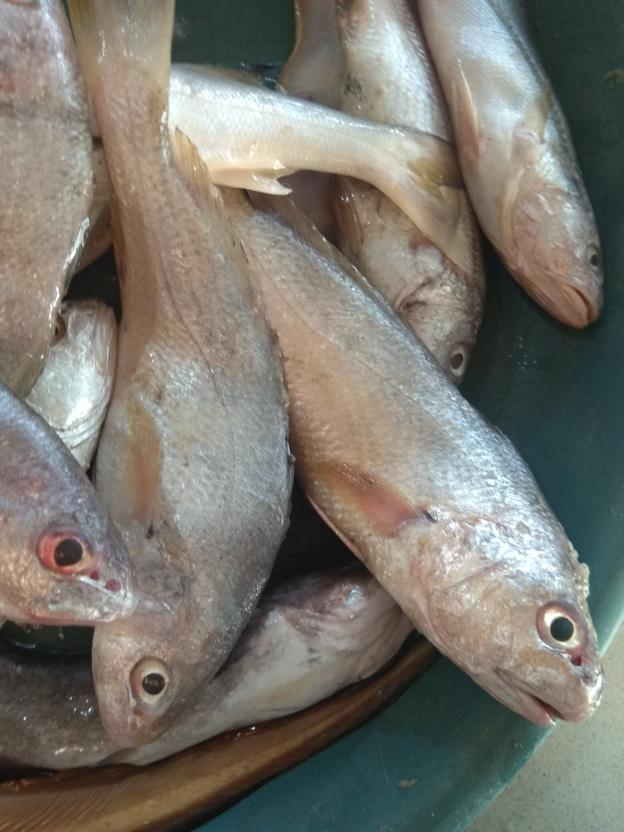Fish head: (421, 522, 596, 732), (88, 579, 234, 751), (1, 458, 141, 624), (506, 183, 607, 332), (392, 274, 487, 386)
Fish tail: (379, 121, 491, 272), (68, 1, 176, 116)
